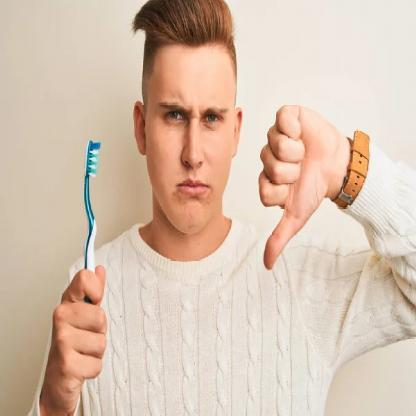thumb_down: (253, 98, 333, 282)
